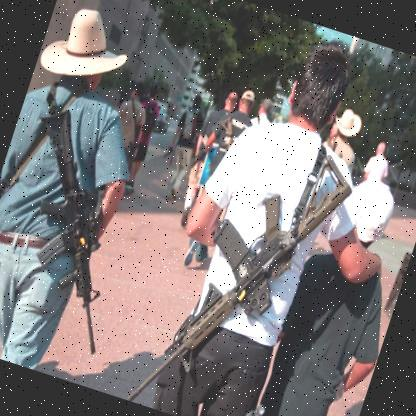rifle: (124, 124, 354, 416), (0, 100, 169, 361)
